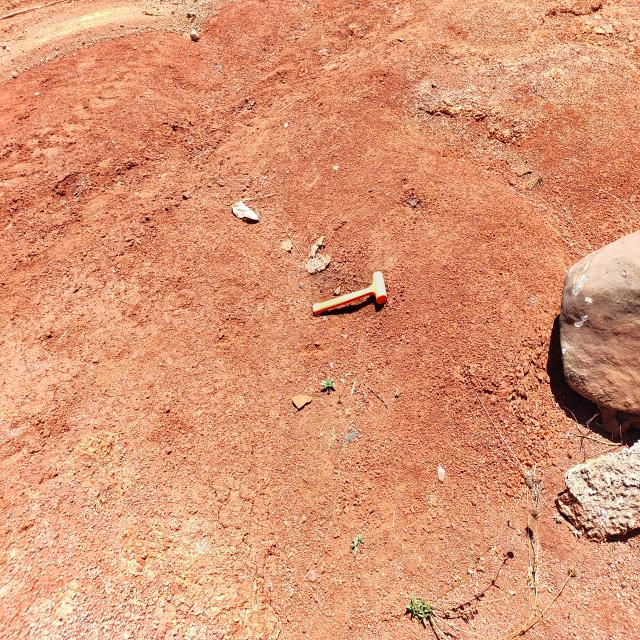Orange_hammer: (311, 270, 388, 317)
